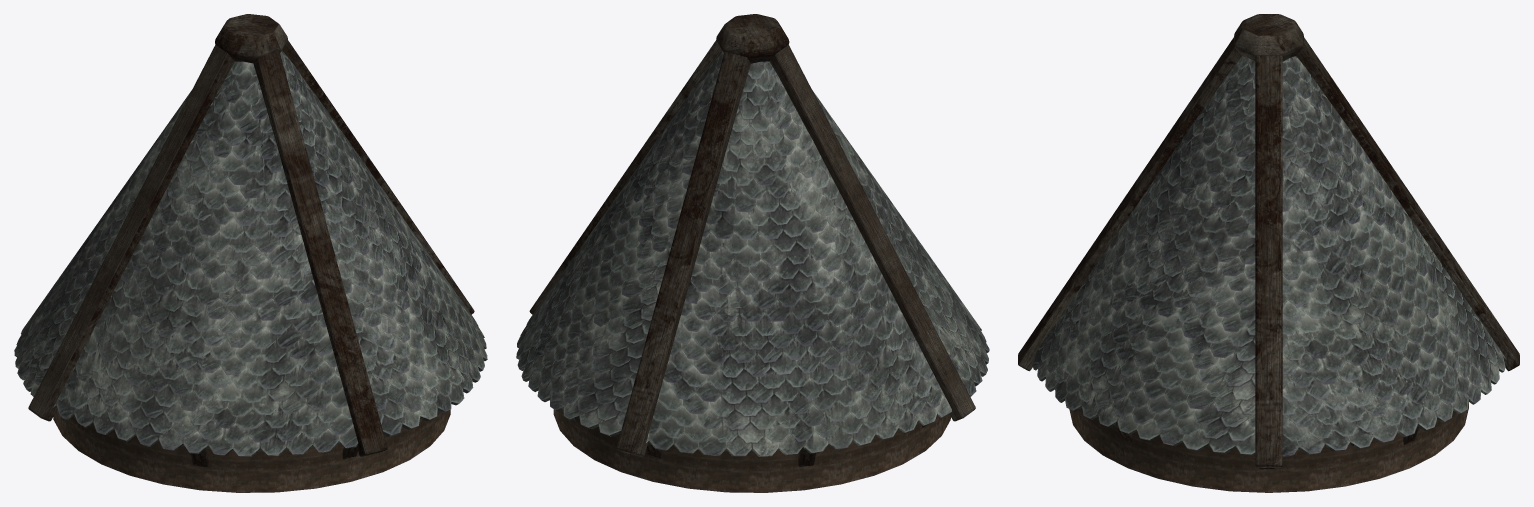
Rendered from TowerRoof_Cone.fbx.
3 views of the same model, side by side, from view 1: azimuth 30°, elevation 25°; view 2: azimuth 150°, elevation 25°; view 3: azimuth 270°, elevation 25° (orthographic).
Visible parts, largest first — view 1: Round Tower Top Cone; view 2: Round Tower Top Cone; view 3: Round Tower Top Cone.
Boxes of the visible parts, x1=… form: Round Tower Top Cone: x1=14, y1=14, x2=487, y2=492; Round Tower Top Cone: x1=516, y1=14, x2=989, y2=492; Round Tower Top Cone: x1=1018, y1=14, x2=1519, y2=492.
Bounding box in the file's own units: 729 × 616 × 729.
